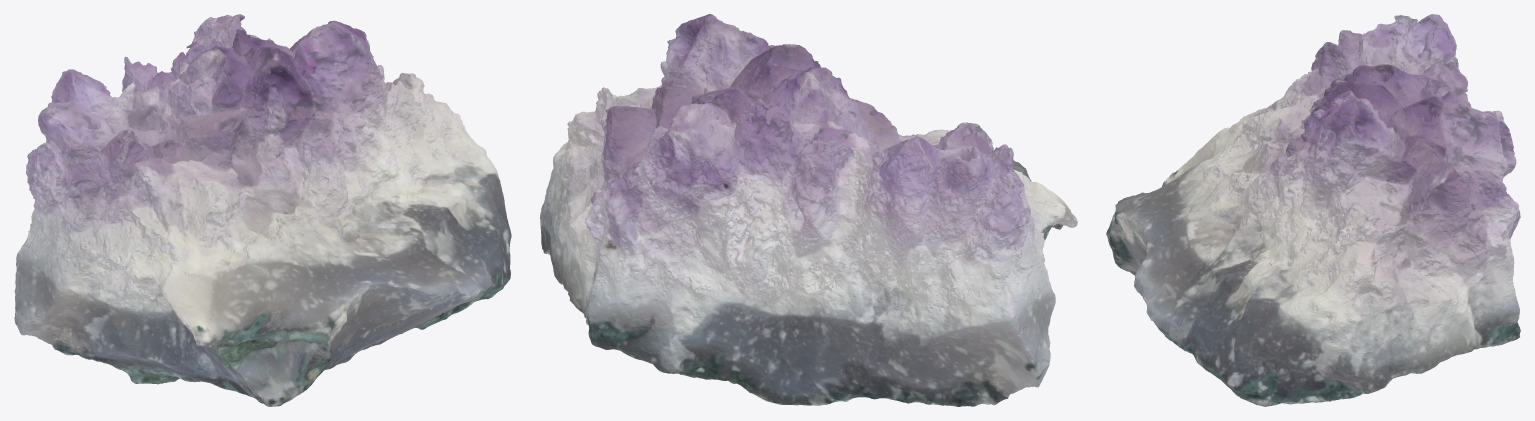
The model's file is amethyst.glb.
3 views of the same model, side by side, from view 1: azimuth 30°, elevation 25°; view 2: azimuth 150°, elevation 25°; view 3: azimuth 270°, elevation 25° (orthographic). The views are drawn at different scales.
Visible parts, largest first — view 1: Object_2; view 2: Object_2; view 3: Object_2.
Part boxes in pixels (left/top/right/bottom): Object_2: left=14, top=14, right=511, bottom=406; Object_2: left=540, top=14, right=1077, bottom=406; Object_2: left=1106, top=14, right=1520, bottom=406.
Size of the model in its own units: 29.08 by 18.44 by 23.64.
1 material, 1 textured.
